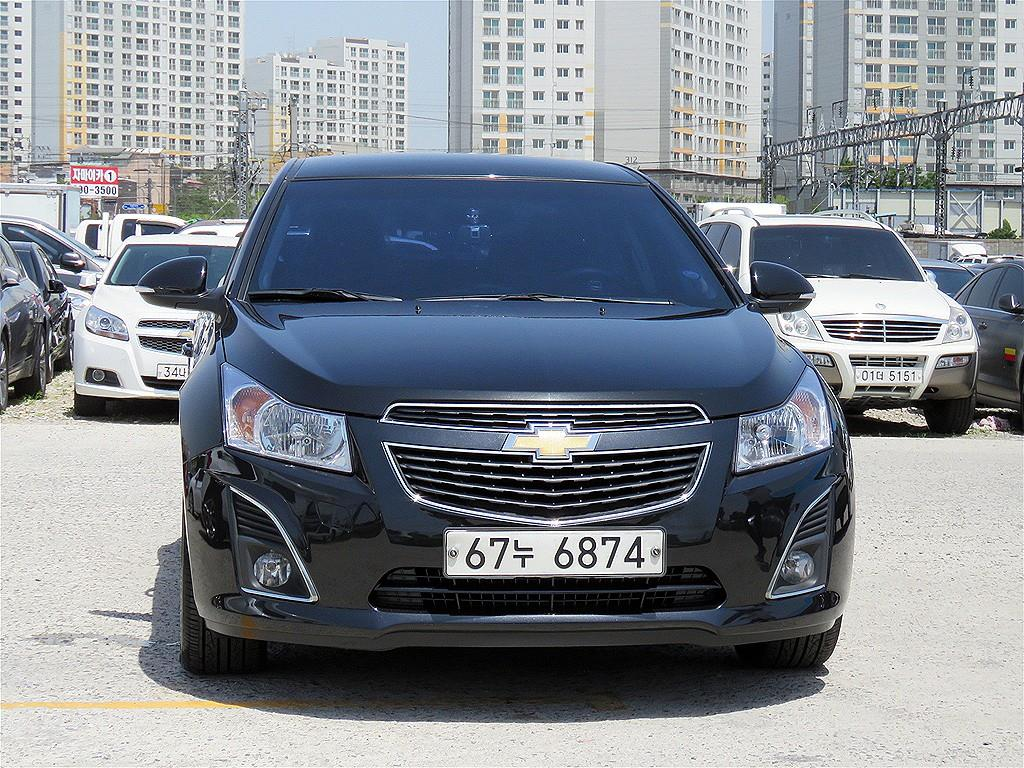plate: (447, 533, 662, 575)
